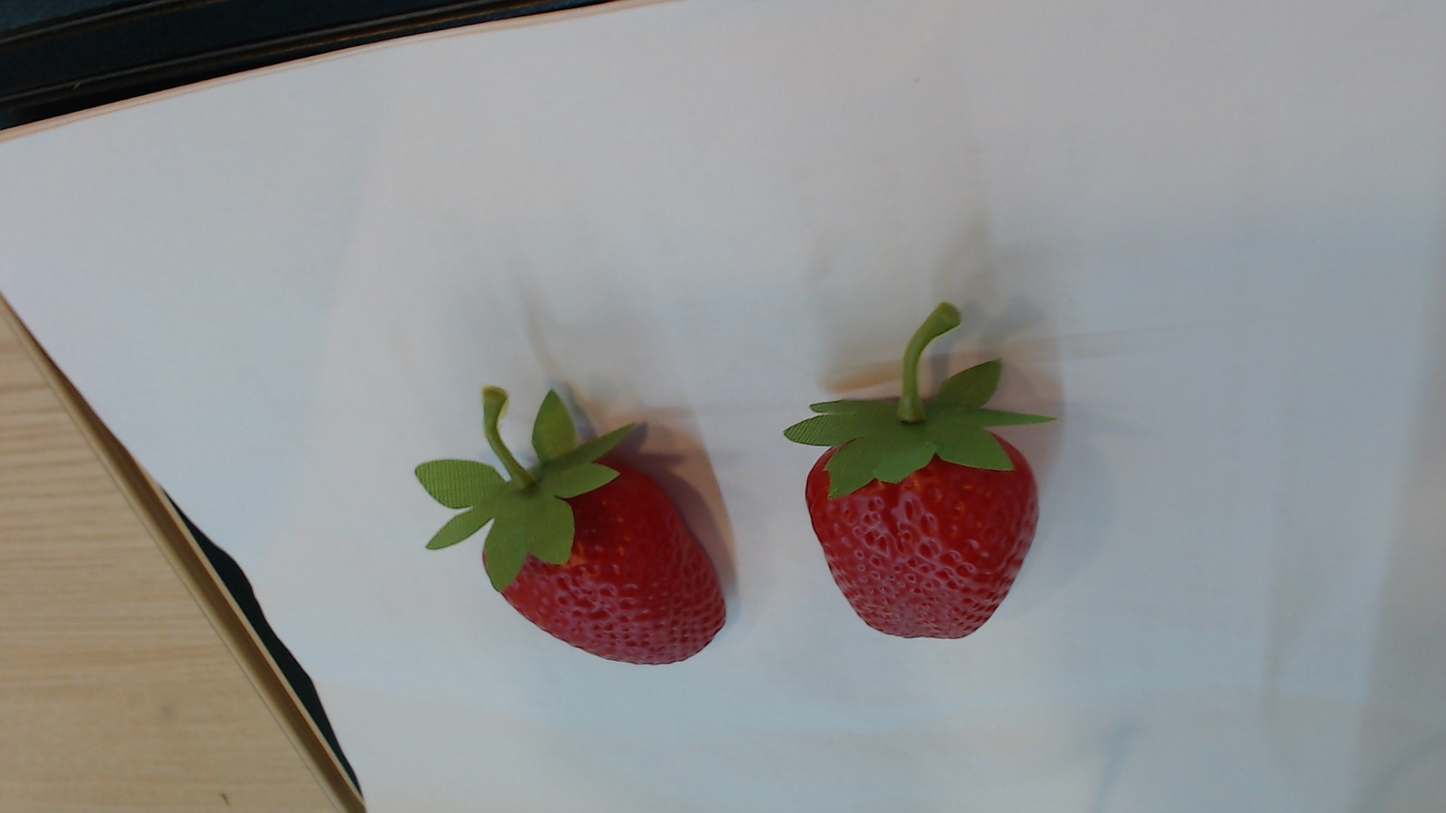strawberry: (793, 403, 1043, 646), (465, 442, 733, 663)
